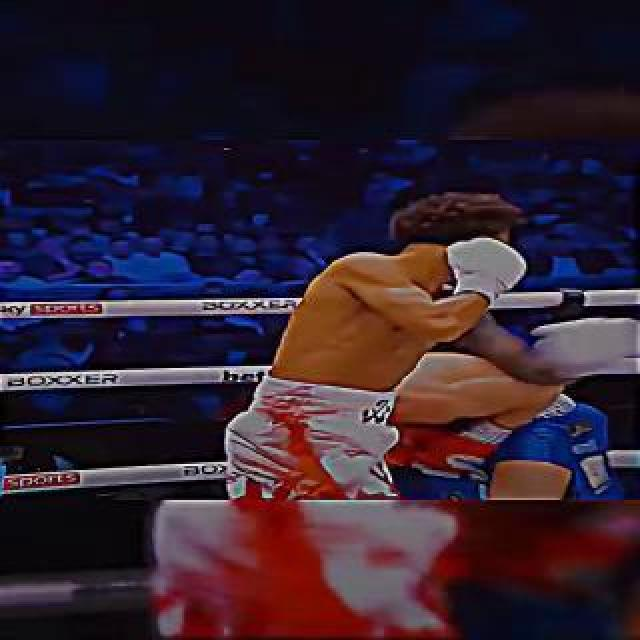fight: (220, 152, 640, 512)
